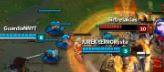w: (97, 24, 149, 34), (80, 46, 130, 56), (1, 33, 46, 43)
